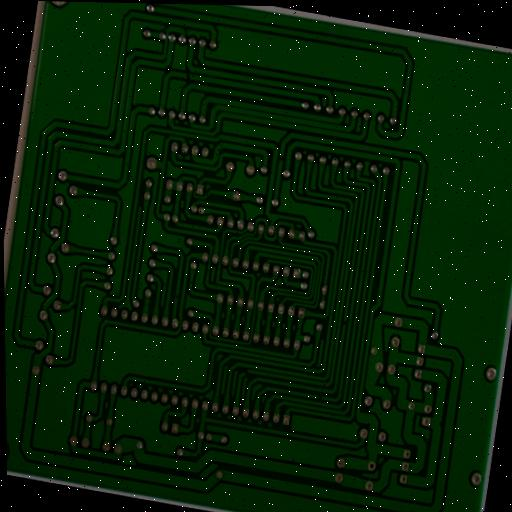open_circuit: (314, 392, 323, 402), (183, 71, 192, 81), (276, 153, 285, 162), (242, 368, 250, 377), (341, 318, 348, 327)
